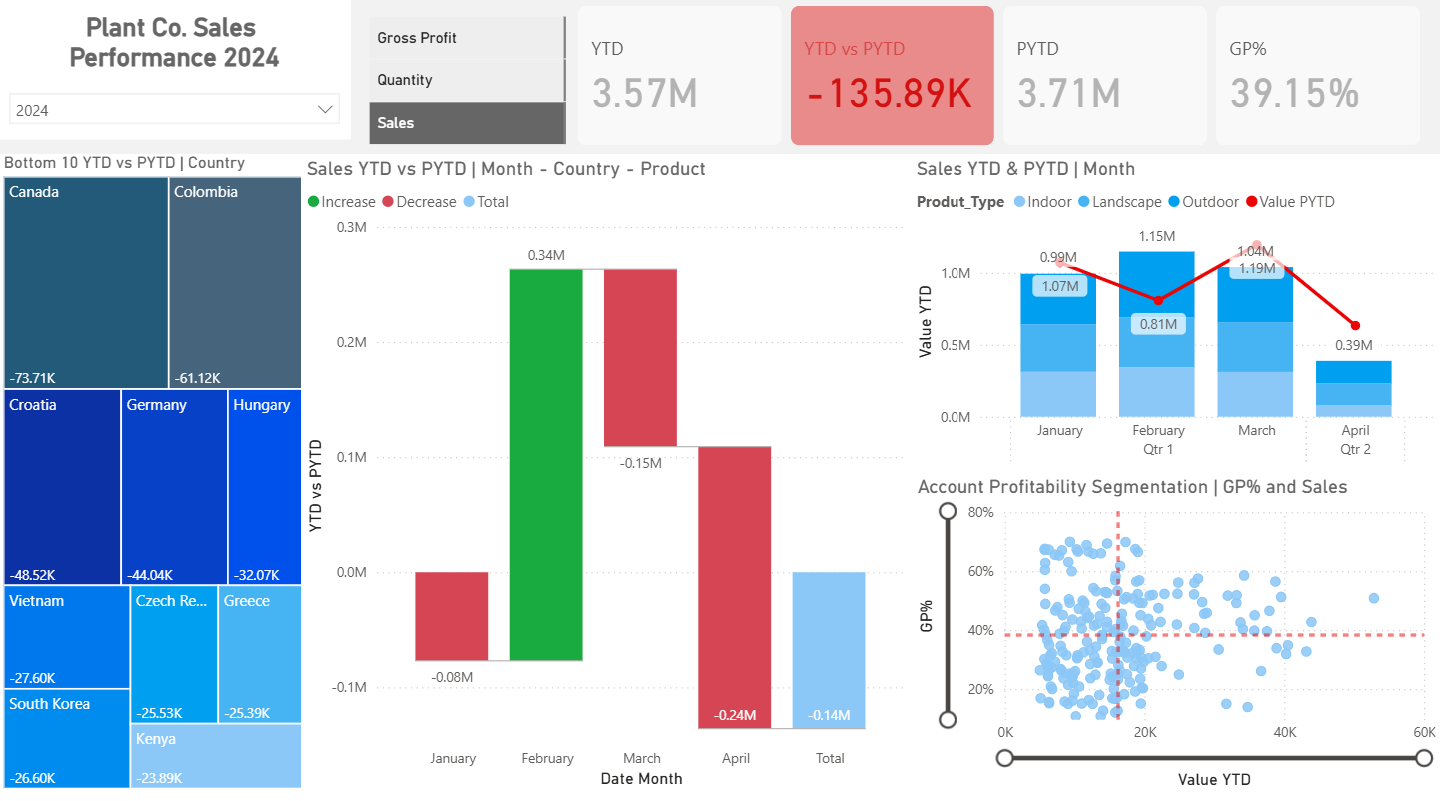

This screenshot's page, from the dashboard's own definition file:
{"tool":"powerbi","page":{"name":"Performance Report","canvas":[1280,720],"ordinal":0},"visuals":[{"type":"cardVisual","fields":{"Data":["_Measures.S_YTD","_Measures.YTD vs PYTD","_Measures.S_PYTD","_Measures.GP%"]},"box":[508.8,6.5,760.6,135],"z":0},{"type":"advancedSlicerVisual","fields":{"Values":["Slc_Values.Values"]},"box":[324.5,15.6,184.3,125.9],"z":1000},{"type":"slicer","fields":{"Values":["Dim_Date.Date.Variation.Date Hierarchy.Year"]},"box":[0,79.2,312.8,50.6],"z":2000},{"type":"treemap","title":"Bottom 10 YTD vs PYTD | Country","fields":{"Values":["_Measures.YTD vs PYTD"],"Group":["Dim_Account.country"]},"box":[0,141.5,277.8,568.5],"z":3000},{"type":"waterfallChart","fields":{"Category":["Dim_Date.Date.Variation.Date Hierarchy.Month","Dim_Account.country","Dim_Product.Produt_Type","Dim_Product.Product_Name"],"Y":["_Measures.YTD vs PYTD"]},"box":[268.7,145.4,541.3,564.6],"z":4000},{"type":"lineStackedColumnComboChart","fields":{"Y":["_Measures.S_YTD"],"Y2":["_Measures.S_PYTD"],"Category":["Dim_Date.Date.Variation.Date Hierarchy.Quarter","Dim_Date.Date.Variation.Date Hierarchy.Month"],"Series":["Dim_Product.Produt_Type"]},"box":[809.9,145.4,469.9,281.7],"z":5000},{"type":"scatterChart","fields":{"X":["_Measures.S_YTD"],"Y":["_Measures.GP%"],"Category":["Dim_Account.Account"]},"box":[810,427,470,283],"z":6000},{"type":"card","fields":{"Values":["_Measures._Report title"]},"box":[0,6.5,312.8,72.7],"z":7000}]}

Visuals, with their boxes in screenshot pixels (x1, y1, x2, y2), scaled from the page's 1280x720 canvas onto the 1440x801 screenshot:
cardVisual - _Measures.S_YTD x _Measures.YTD vs PYTD: [x1=572, y1=7, x2=1428, y2=157]
advancedSlicerVisual - Slc_Values.Values: [x1=365, y1=17, x2=572, y2=157]
slicer - Dim_Date.Date.Variation.Date Hierarchy.Year: [x1=0, y1=88, x2=352, y2=144]
"Bottom 10 YTD vs PYTD | Country" treemap: [x1=0, y1=157, x2=313, y2=790]
waterfallChart - Dim_Date.Date.Variation.Date Hierarchy.Month x Dim_Account.country: [x1=302, y1=162, x2=911, y2=790]
lineStackedColumnComboChart - _Measures.S_YTD x _Measures.S_PYTD: [x1=911, y1=162, x2=1439, y2=475]
scatterChart - _Measures.S_YTD x _Measures.GP%: [x1=911, y1=475, x2=1439, y2=790]
card - _Measures._Report title: [x1=0, y1=7, x2=352, y2=88]
